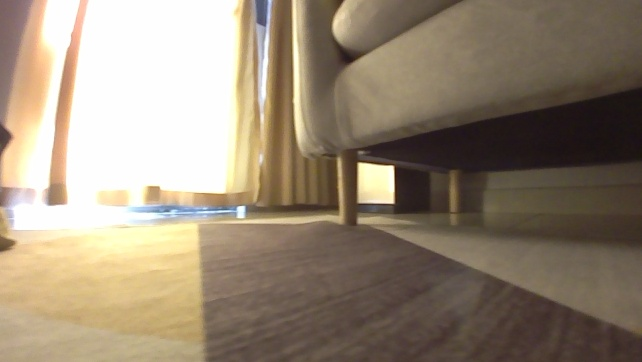blanket: (0, 210, 641, 361)
sofa1: (284, 0, 641, 226)
